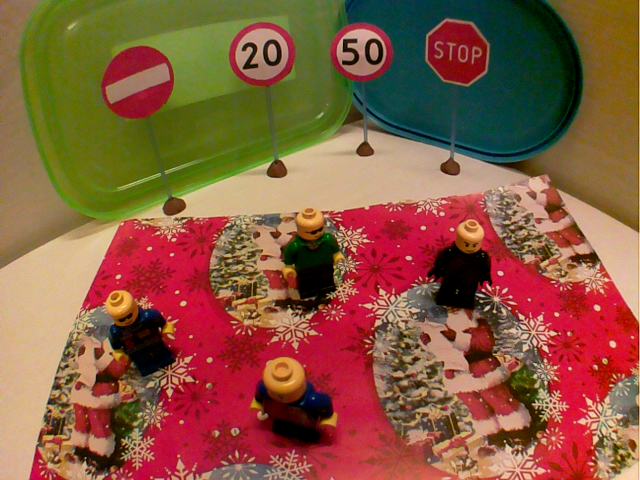Ograniczenie 20: (226, 20, 299, 91)
Ograniczenie 50: (328, 21, 396, 86)
Postac LEGO: (249, 354, 344, 449), (101, 283, 184, 380), (424, 216, 499, 314), (280, 205, 351, 305)
Stop: (422, 16, 494, 91)
Zakaz: (99, 41, 179, 125)
